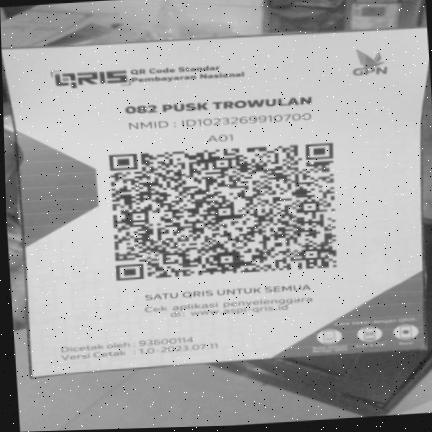Qris-Positioning: (1, 28, 429, 377)
